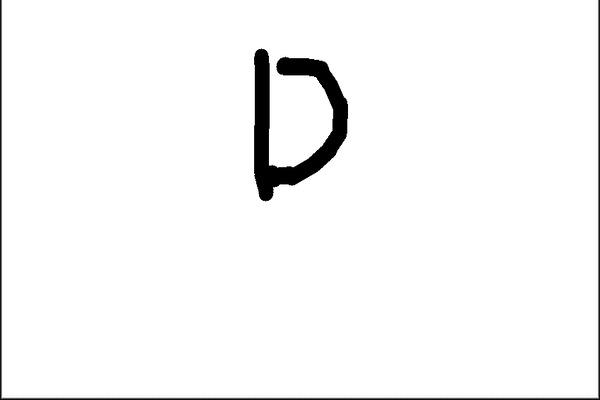D: (248, 42, 352, 203)
